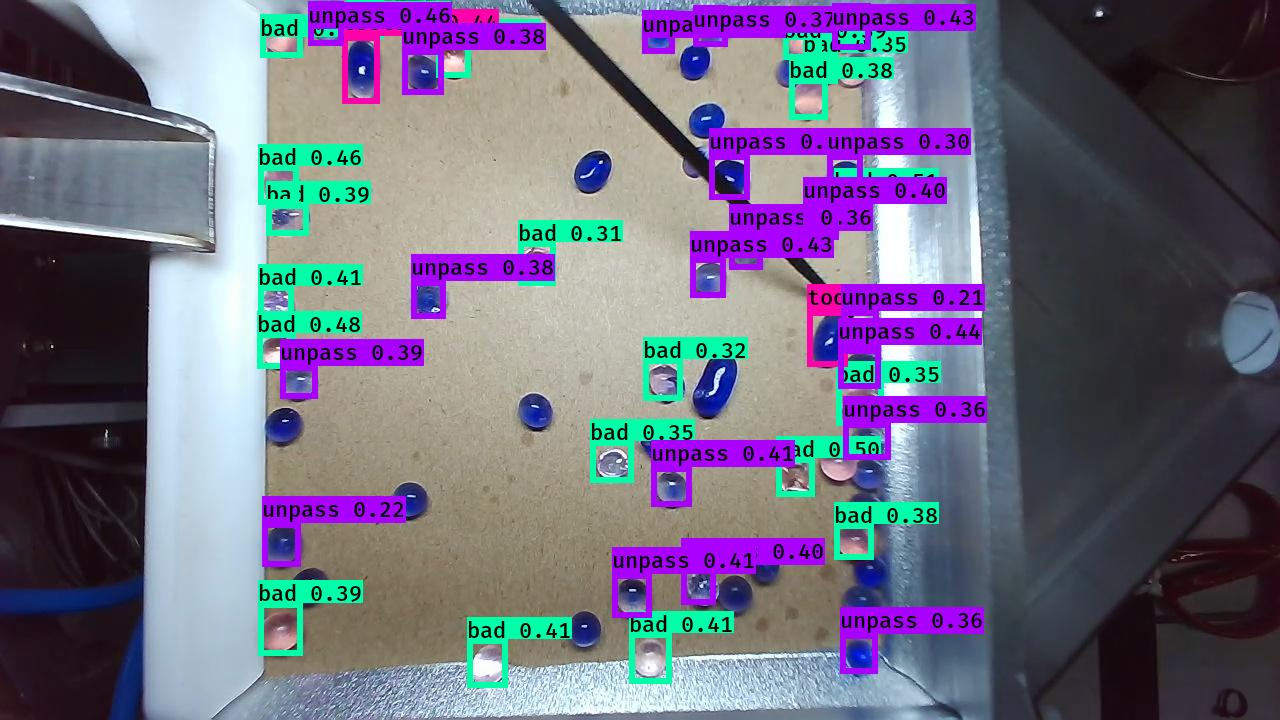bad: (836, 387, 887, 434), (254, 611, 307, 655), (644, 355, 689, 402), (259, 16, 305, 60), (782, 16, 825, 63), (627, 637, 671, 682), (833, 521, 876, 562), (468, 644, 508, 688), (260, 167, 304, 205), (258, 288, 298, 329), (794, 77, 830, 122), (817, 447, 859, 485), (519, 246, 559, 285), (345, 1, 384, 40), (776, 461, 817, 498), (592, 448, 633, 485), (836, 49, 876, 86), (269, 205, 313, 238), (773, 218, 812, 254), (258, 337, 298, 369), (436, 43, 472, 78), (832, 194, 872, 224), (806, 52, 840, 85)
pass: (567, 147, 615, 197), (261, 526, 304, 569), (263, 408, 306, 449), (287, 568, 330, 609), (638, 423, 681, 463), (515, 391, 554, 435), (389, 482, 430, 523), (843, 583, 884, 624), (716, 573, 754, 616), (673, 42, 710, 84), (844, 493, 887, 529), (688, 103, 727, 142), (566, 609, 604, 649), (840, 353, 882, 389), (748, 545, 781, 587), (852, 558, 891, 589)
toolong: (692, 347, 739, 423), (341, 39, 381, 104), (808, 310, 850, 370)
unpass: (830, 4, 874, 53), (610, 578, 654, 621), (650, 469, 694, 512), (798, 204, 844, 245), (408, 281, 450, 320), (640, 13, 677, 57), (277, 368, 321, 404), (308, 6, 346, 46), (403, 55, 440, 95), (822, 159, 864, 194), (844, 637, 879, 678), (685, 568, 721, 607), (690, 263, 729, 299), (690, 9, 727, 46), (730, 234, 768, 270), (845, 427, 889, 458), (843, 316, 881, 351), (712, 157, 749, 192), (854, 460, 890, 492), (777, 54, 808, 88)
